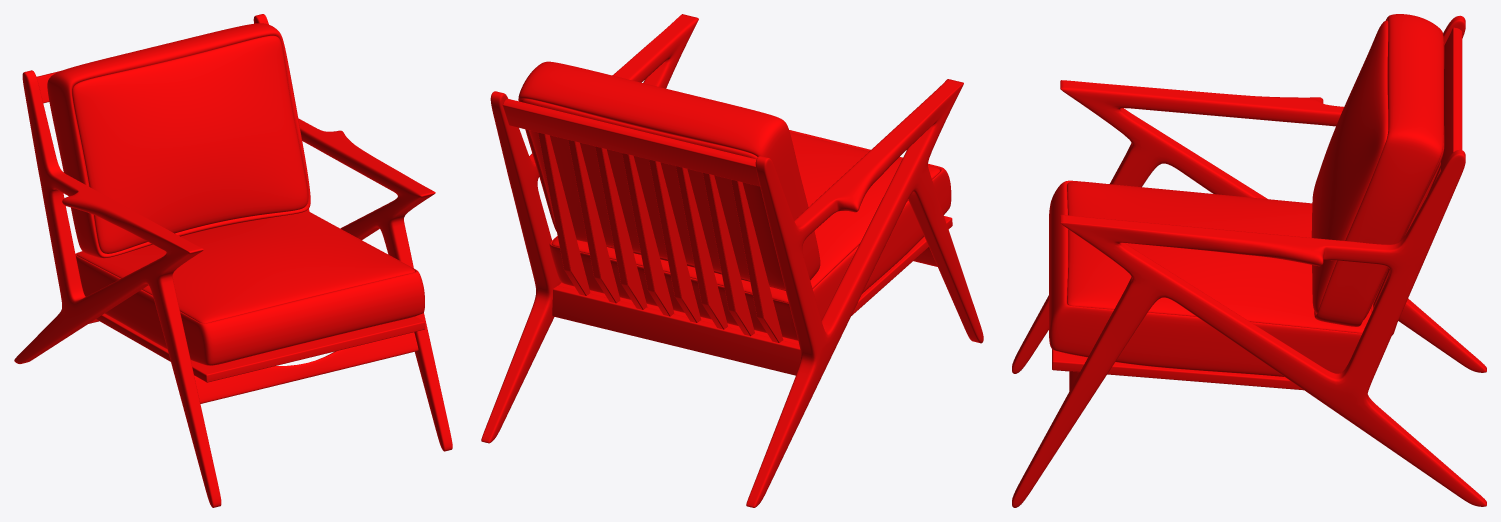
The model's file is chair11.glb.
3 views of the same model, side by side, from view 1: azimuth 30°, elevation 25°; view 2: azimuth 150°, elevation 25°; view 3: azimuth 270°, elevation 25° (orthographic). The views are drawn at different scales.
Parts seen in each view (by area): view 1: cushions, legs, supports, base; view 2: cushions, legs, back, supports, base; view 3: cushions, legs, base, supports.
Boxes of the visible parts, x1,y1,x2,y2 form: cushions: (47, 23, 424, 365); legs: (14, 14, 452, 507); supports: (36, 23, 418, 403); base: (96, 313, 425, 382); cushions: (518, 61, 951, 340); legs: (481, 14, 983, 507); back: (538, 132, 783, 342); supports: (502, 98, 937, 375); base: (558, 216, 952, 344); cushions: (1049, 14, 1444, 376); legs: (1012, 15, 1486, 507); base: (1052, 349, 1303, 390); supports: (1069, 27, 1462, 390).
Bounding box in the file's own units: 1.8 × 1.9 × 2.22.
